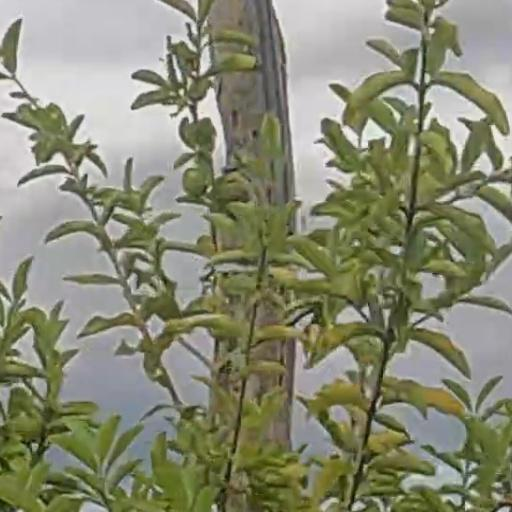acerola: (186, 169, 206, 194)
